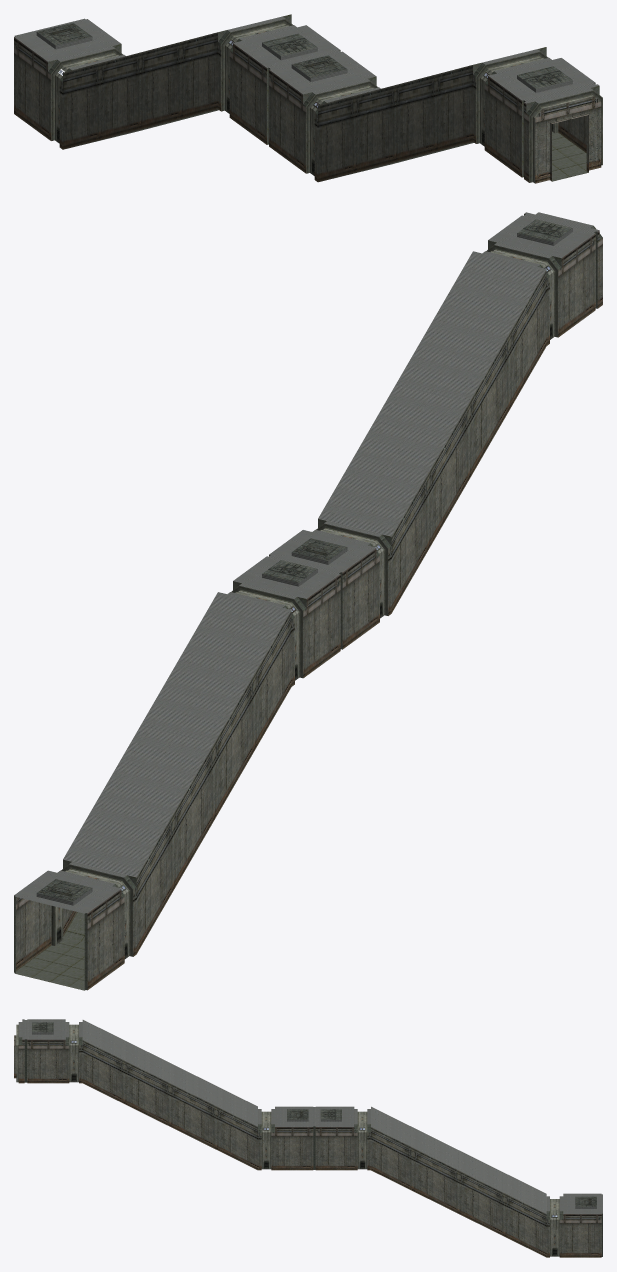
File: poi_all_impl_bunker_crimelord_retreat_s01_r43_treasurehall02_mesh_r43.fbx
3 views of the same model, one above another, from view 1: azimuth 30°, elevation 25°; view 2: azimuth 150°, elevation 25°; view 3: azimuth 270°, elevation 25° (orthographic). The views are drawn at different scales.
Visible parts, largest first — view 1: mesh_node; view 2: mesh_node; view 3: mesh_node.
Part boxes in pixels (x1=…): mesh_node: x1=14, y1=14, x2=602, y2=183; mesh_node: x1=14, y1=212, x2=602, y2=990; mesh_node: x1=14, y1=1019, x2=602, y2=1257.
Bounding box in the file's own units: 4 × 20.2 × 49.
